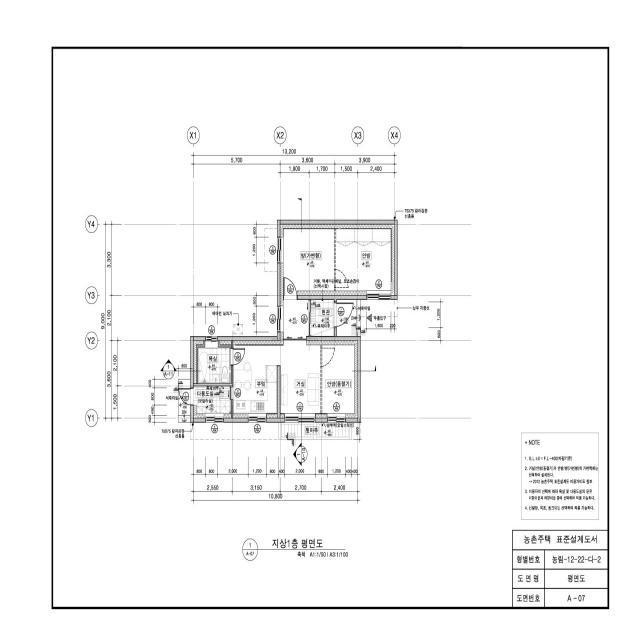space_bedroom: (335, 224, 394, 295), (280, 225, 335, 295), (321, 341, 358, 418)
space_front: (311, 300, 334, 336)
space_kitchen: (233, 341, 280, 418)
space_living_room: (280, 341, 321, 418)
space_multipurpose_space: (193, 386, 231, 418)
space_other: (279, 423, 352, 440), (280, 300, 309, 339)
space_staircase: (337, 300, 366, 336)
space_toilet: (199, 348, 231, 382)
